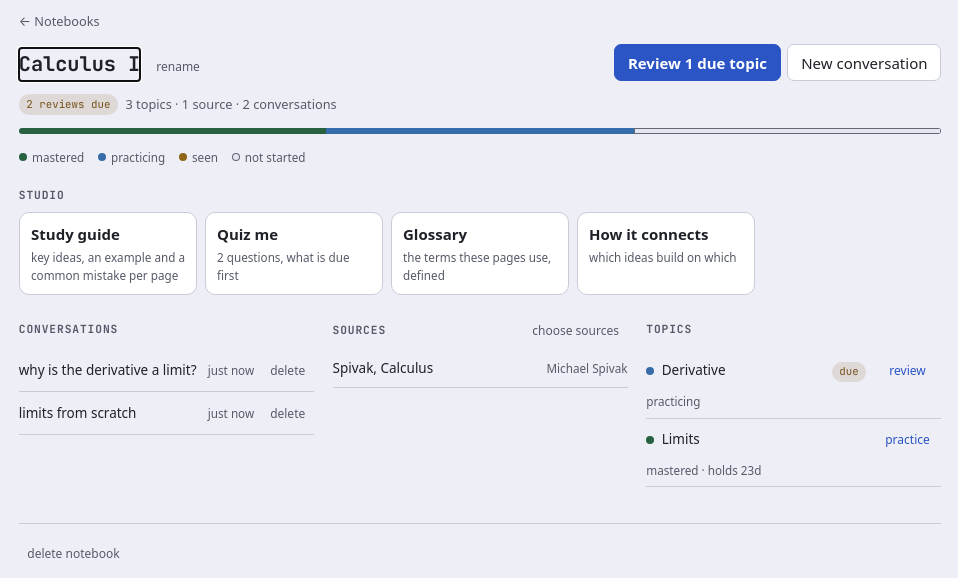
Scenario: NotebookView › renames in place and shows the new name
Click the button "rename": (178, 67) [148,53,208,81]
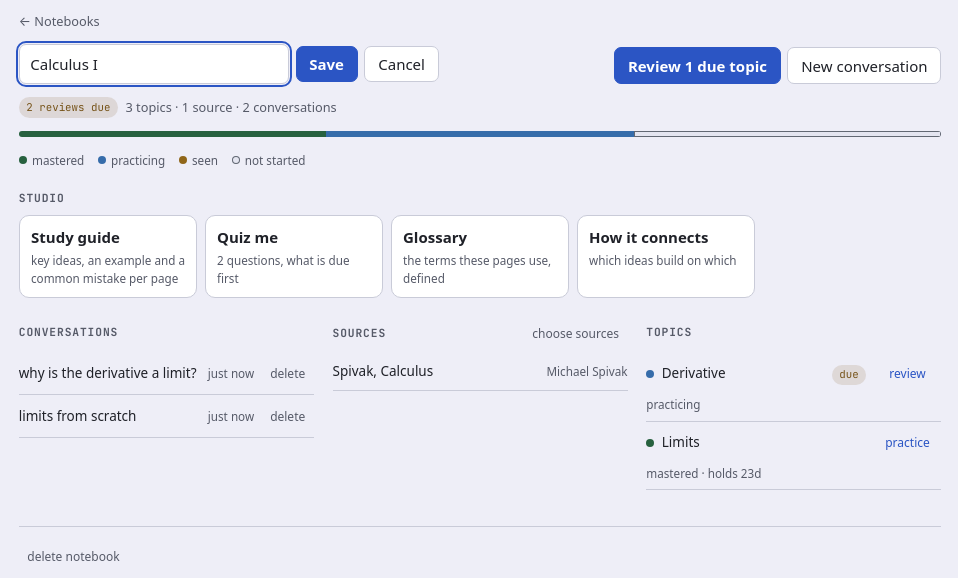
Replace the text in the field named "Notebook name" with "Calculus 1": (154, 64) [19,44,289,84]
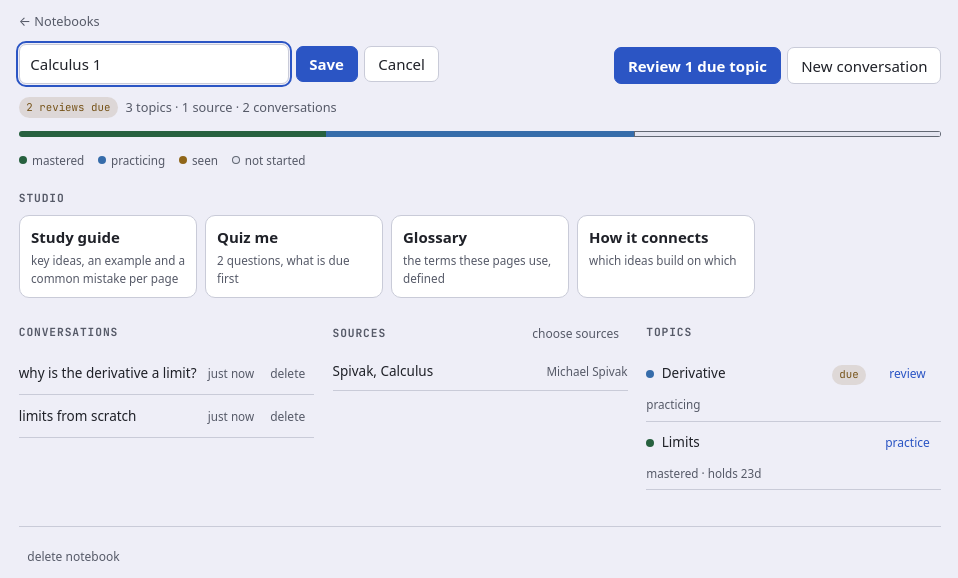
Click the button "Save": (327, 64) [296,46,358,82]
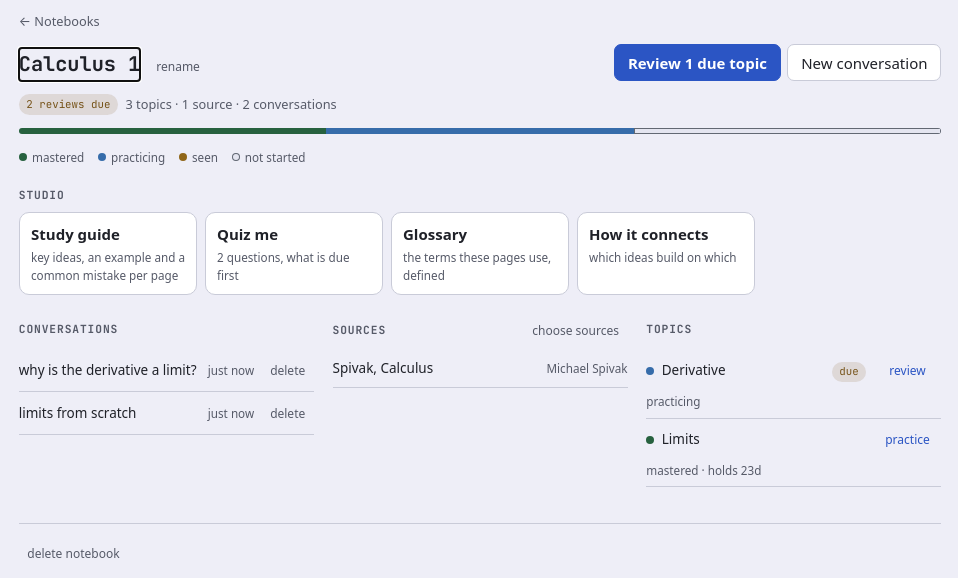
Now the heading "Calculus 1" is shown, box [19,48,140,81]
